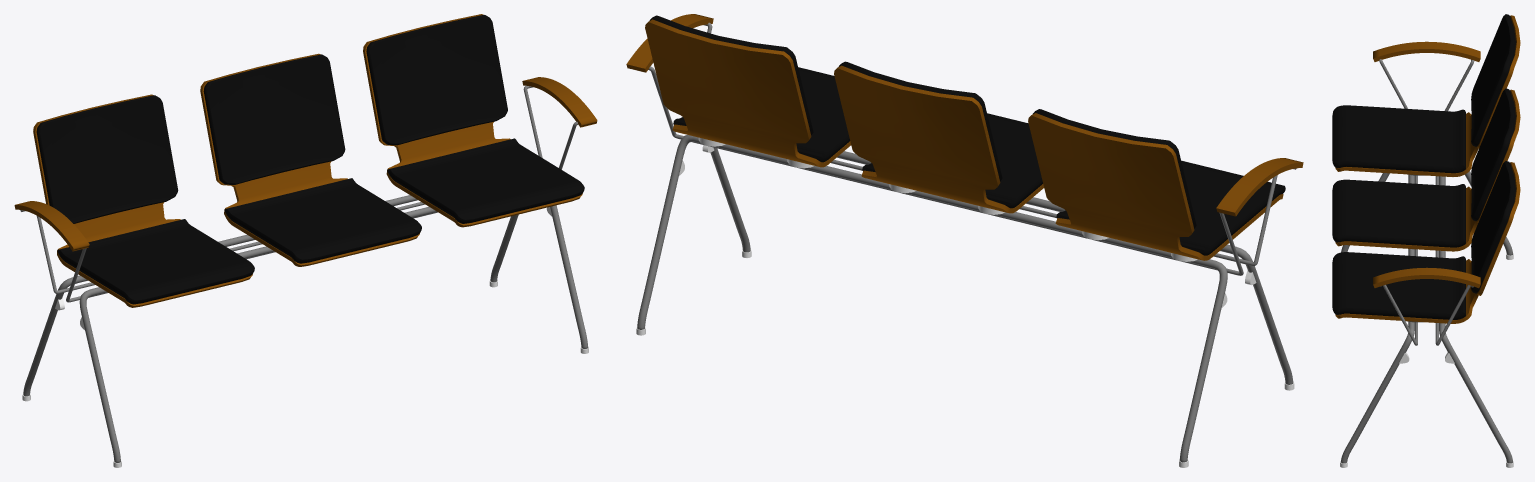
Rendered from Bench_Chairs.FBX.
3 renders of one model, left to right at view 1: azimuth 30°, elevation 25°; view 2: azimuth 150°, elevation 25°; view 3: azimuth 270°, elevation 25°, orthographic. The views are drawn at different scales.
Parts seen in each view (by area): view 1: 1, ws, 34; view 2: ws, 1, 34, 2; view 3: 1, ws, 34, 2.
Part boxes in pixels (bbox=[...]): 1: bbox=[36, 15, 584, 304]; ws: bbox=[14, 14, 597, 307]; 34: bbox=[20, 85, 588, 462]; ws: bbox=[626, 14, 1303, 260]; 1: bbox=[649, 15, 1285, 255]; 34: bbox=[637, 22, 1296, 462]; 2: bbox=[636, 137, 1294, 467]; 1: bbox=[1332, 14, 1515, 319]; ws: bbox=[1335, 15, 1520, 323]; 34: bbox=[1340, 59, 1512, 463]; 2: bbox=[1340, 253, 1513, 467].
Bounding box in the file's own units: 171 × 85.92 × 58.43.
